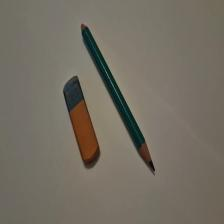eraser: (64, 76, 101, 164)
pencil: (82, 24, 156, 172)
